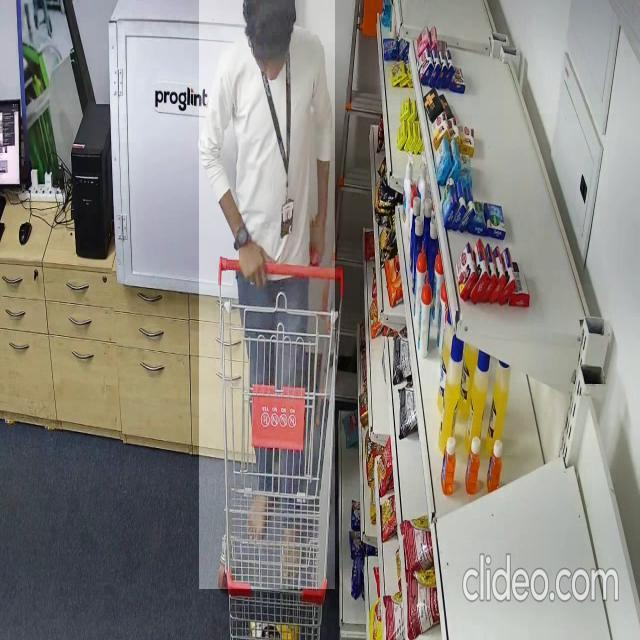Shoplifting: (199, 0, 335, 589)
